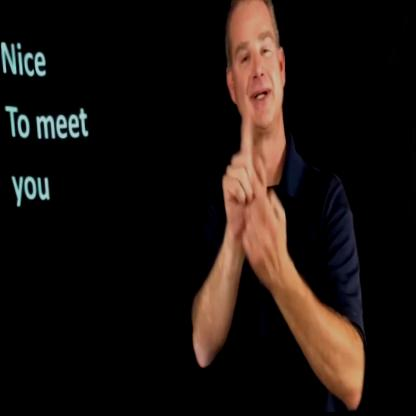NiceToMeetYou: (204, 108, 295, 286)
